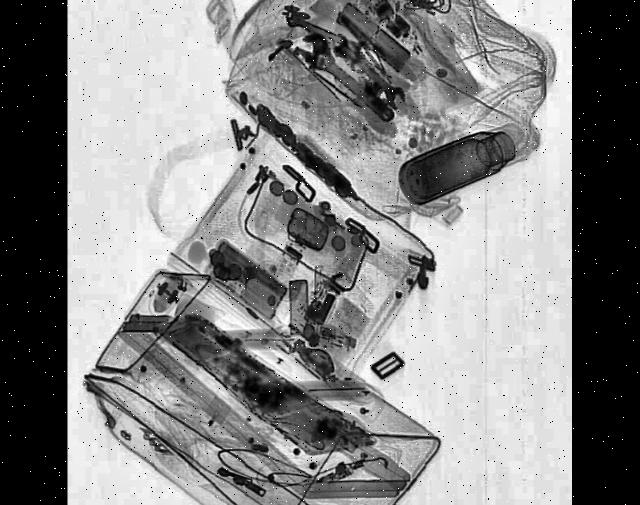Wrench: (294, 17, 402, 136), (334, 16, 409, 110)
